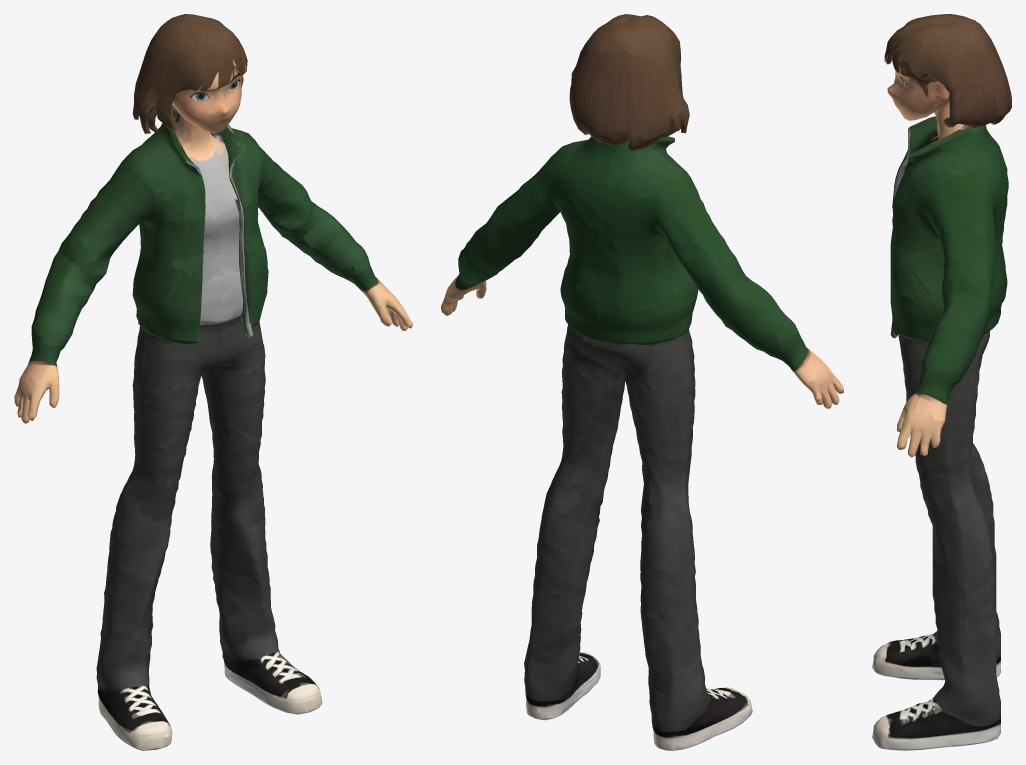
The model's file is katya.glb.
3 views of the same model, side by side, from view 1: azimuth 30°, elevation 25°; view 2: azimuth 150°, elevation 25°; view 3: azimuth 270°, elevation 25° (orthographic).
Bounding box in the file's own units: 1.12 × 1.91 × 0.3523.
1 material, 1 textured.
